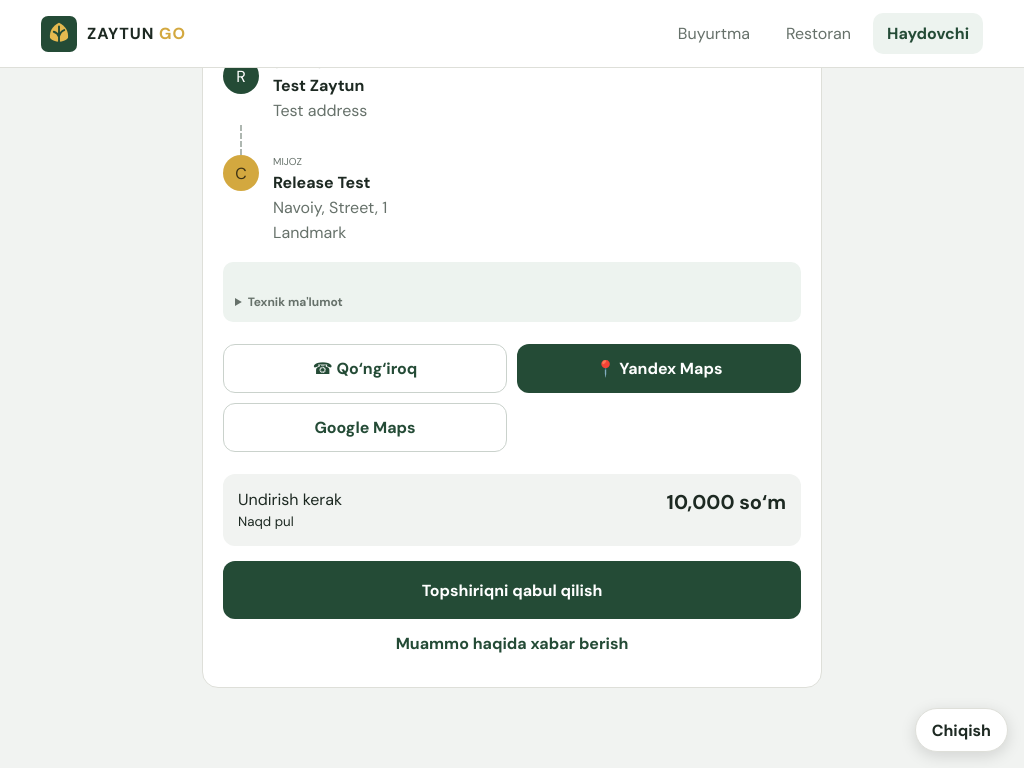
Test: acceptAssignment duplicate-interaction guard › suppresses a rapid duplicate accept, disables the button, and re-enables after success
(page scrolled)
Click the button with test id "driver-primary-action" at (512, 590), box x1=223 y1=561 x2=801 y2=619
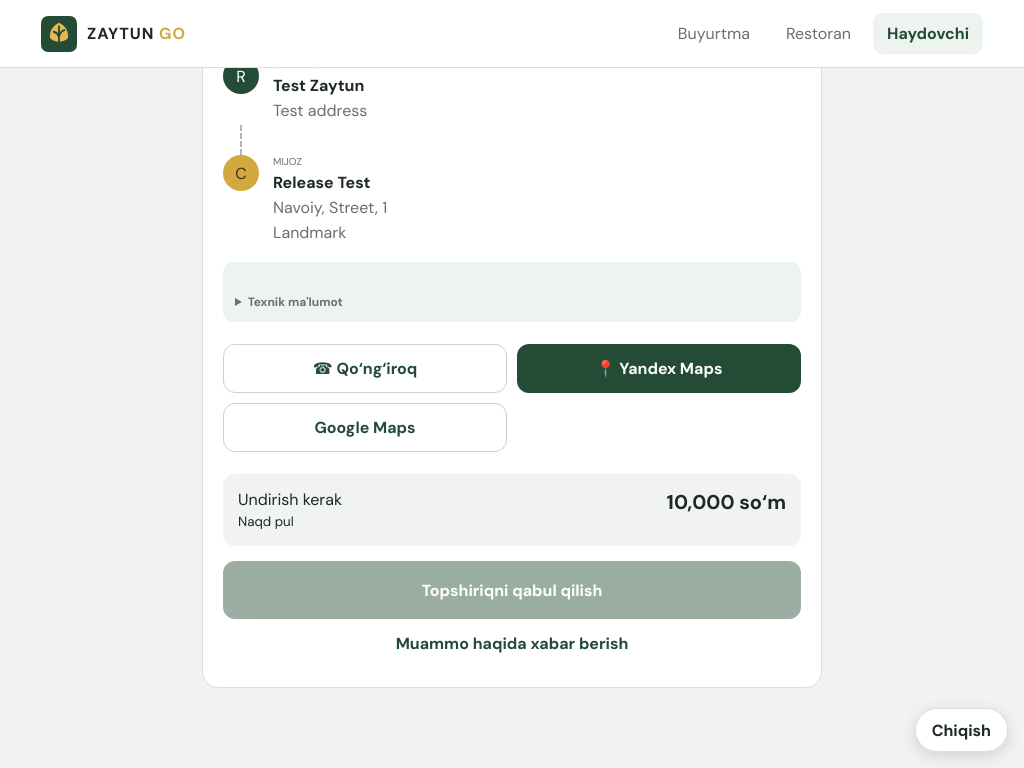
Result: the button with test id "driver-primary-action" is disabled
Click the button with test id "driver-primary-action" at (512, 590), box x1=223 y1=561 x2=801 y2=619
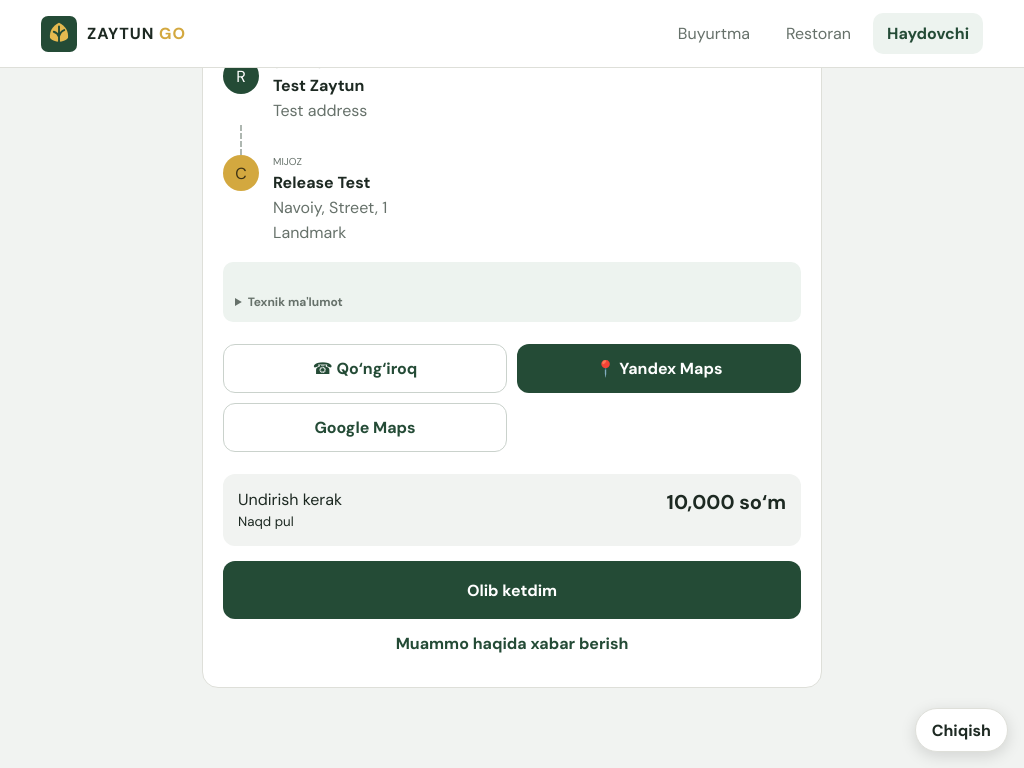
Result: the button "Olib ketdim" is shown at x1=223 y1=561 x2=801 y2=619
